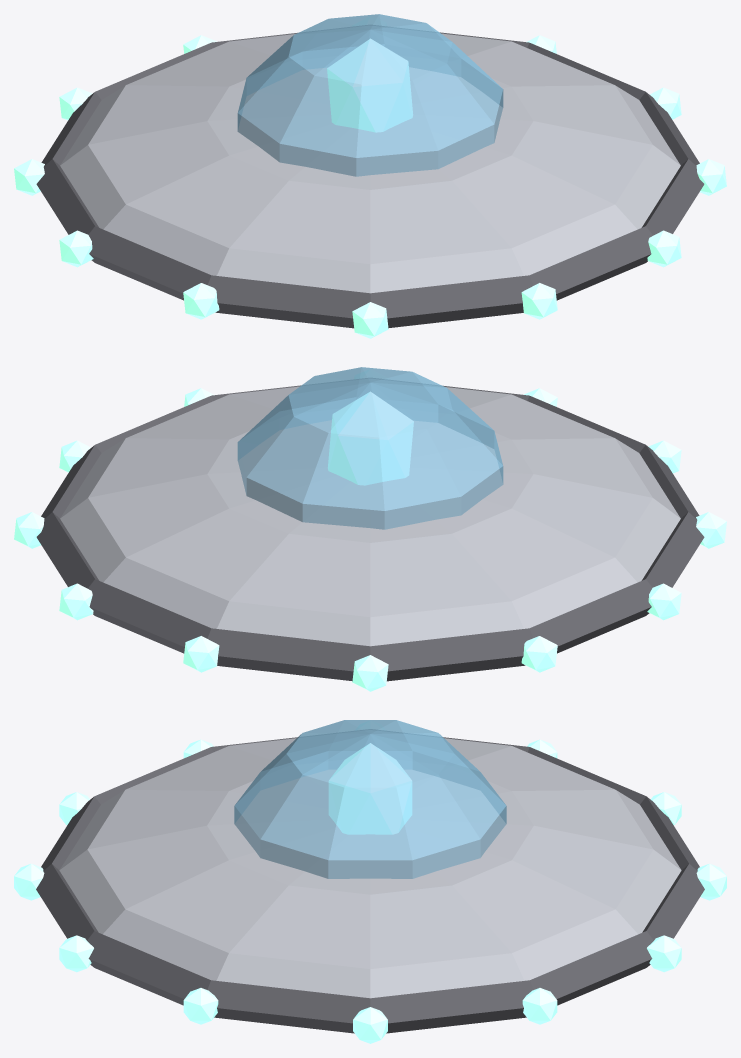
The model's file is ovniNuevo.glb.
The picture shows the model from 3 angles, top to bottom: view 1: azimuth 30°, elevation 25°; view 2: azimuth 150°, elevation 25°; view 3: azimuth 270°, elevation 25°; orthographic projection.
Parts seen in each view (by area): view 1: OVNI_LowPoly; view 2: OVNI_LowPoly; view 3: OVNI_LowPoly.
Boxes of the visible parts, left/top/right/bottom form: OVNI_LowPoly: left=14, top=14, right=726, bottom=338; OVNI_LowPoly: left=14, top=367, right=726, bottom=691; OVNI_LowPoly: left=14, top=720, right=726, bottom=1043.
Size of the model in its own units: 1.75 by 0.59 by 1.75.
